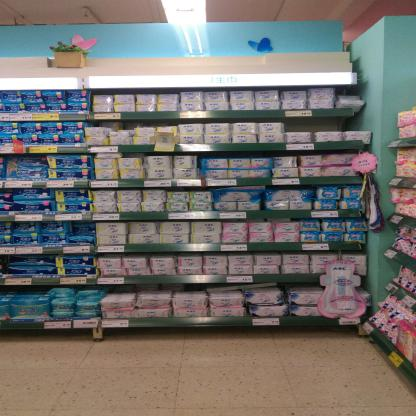Void: (132, 276, 224, 294), (128, 243, 214, 256), (255, 274, 313, 292), (286, 117, 360, 131), (204, 145, 286, 157), (249, 241, 307, 254), (250, 212, 311, 222), (121, 146, 151, 158), (127, 212, 161, 220)
